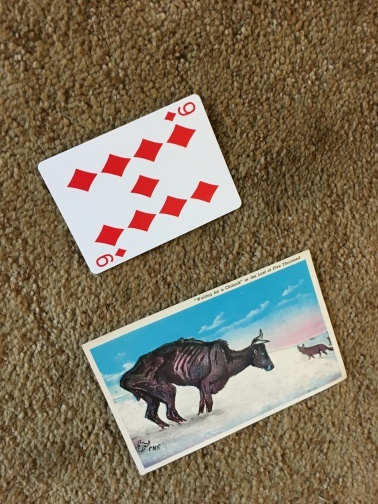nine: (39, 96, 240, 273)
